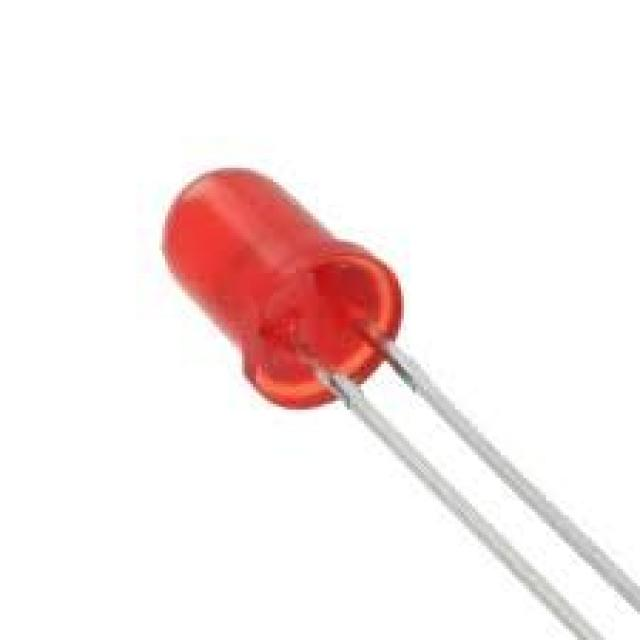Led: (164, 169, 640, 640)
